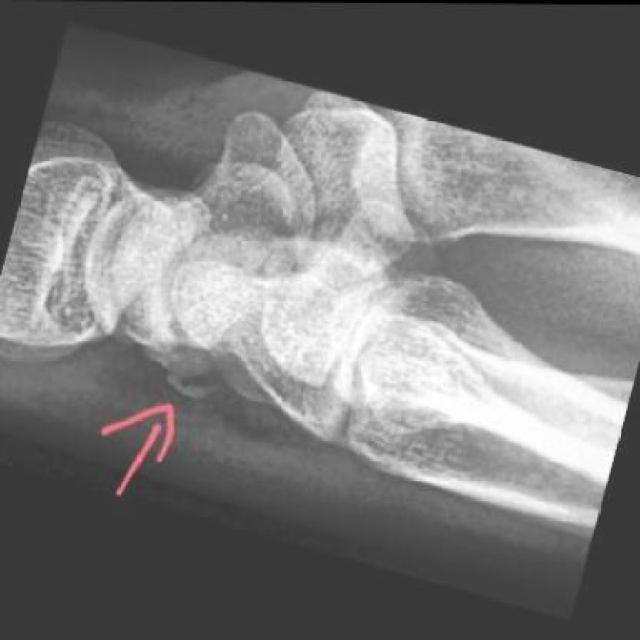Fracture: (149, 331, 237, 419)
